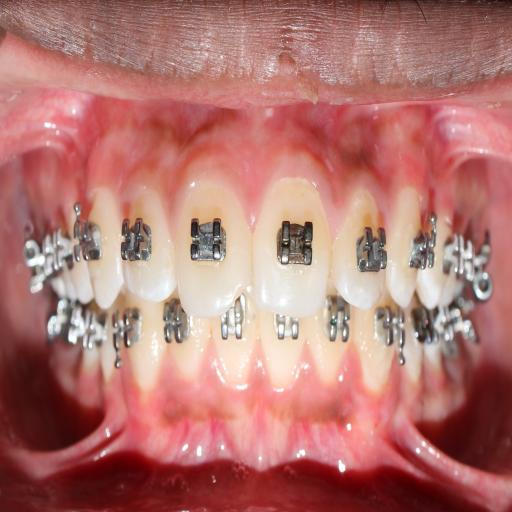correct_brace: (271, 206, 314, 276), (185, 209, 230, 269), (122, 212, 154, 268), (354, 216, 384, 272), (412, 223, 436, 277), (73, 220, 100, 260)
incorrect_brace: (333, 178, 386, 319), (122, 177, 171, 303)
